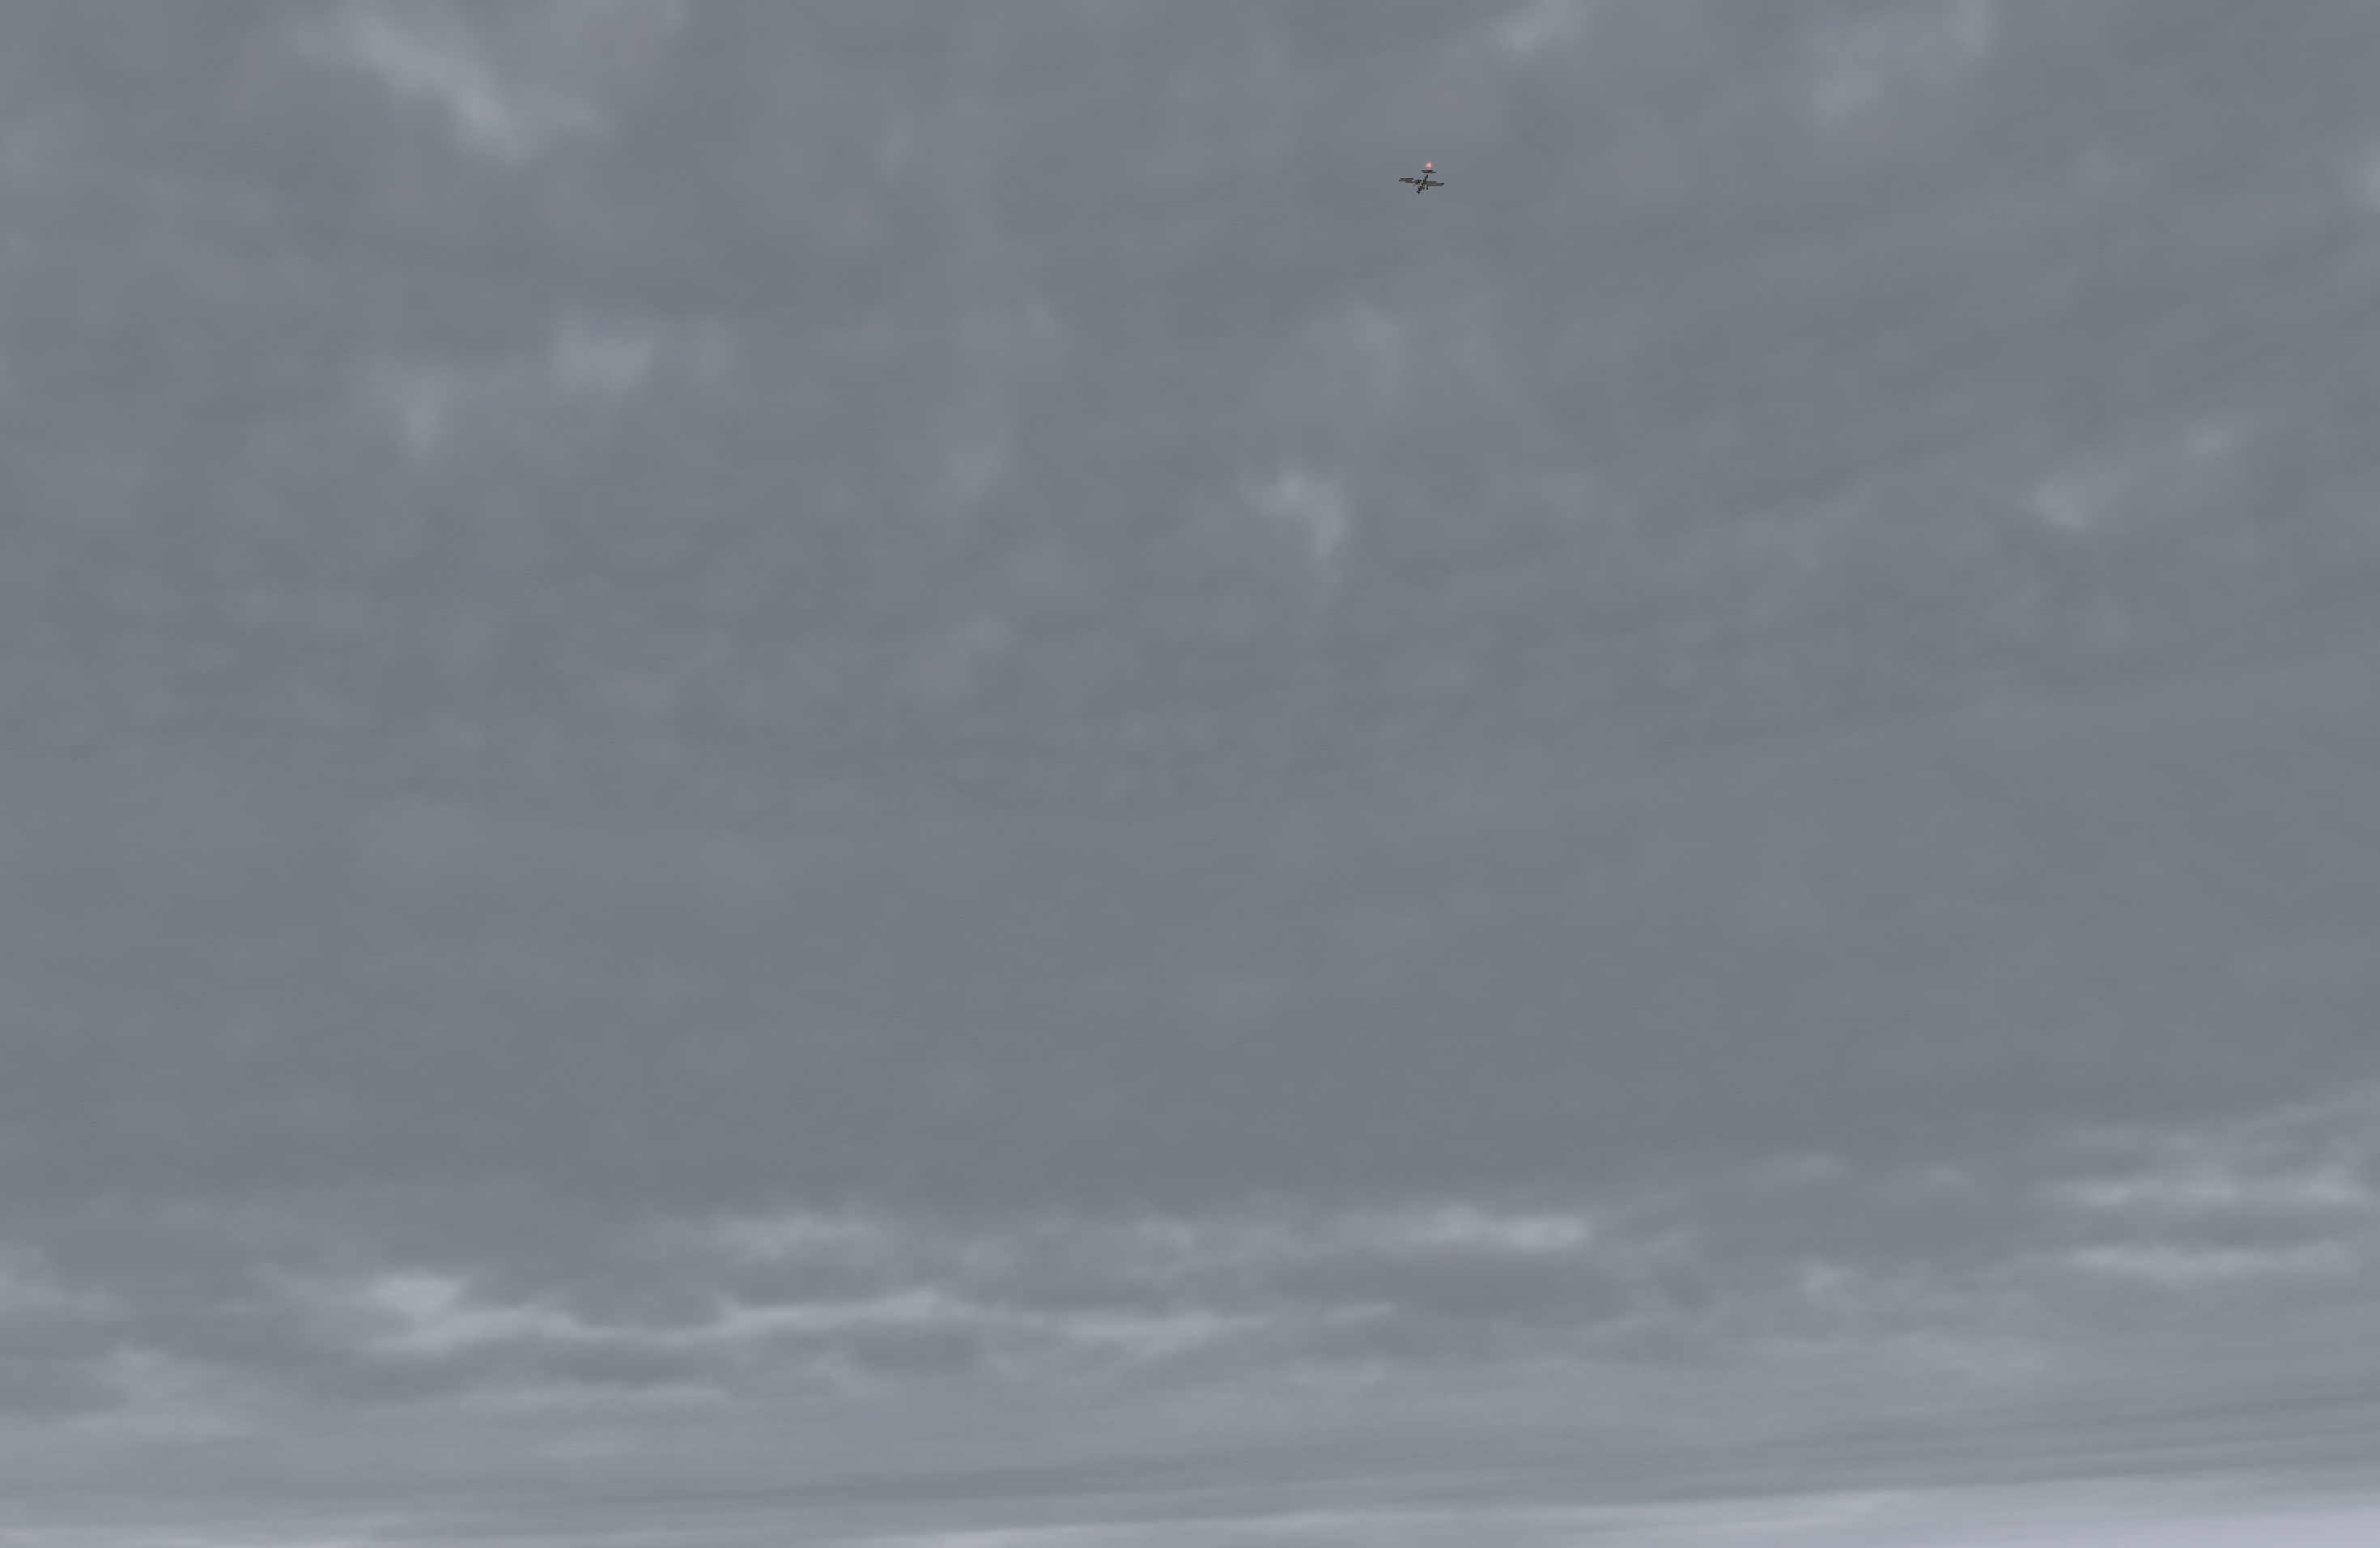aircraft: (1405, 179, 1438, 191)
